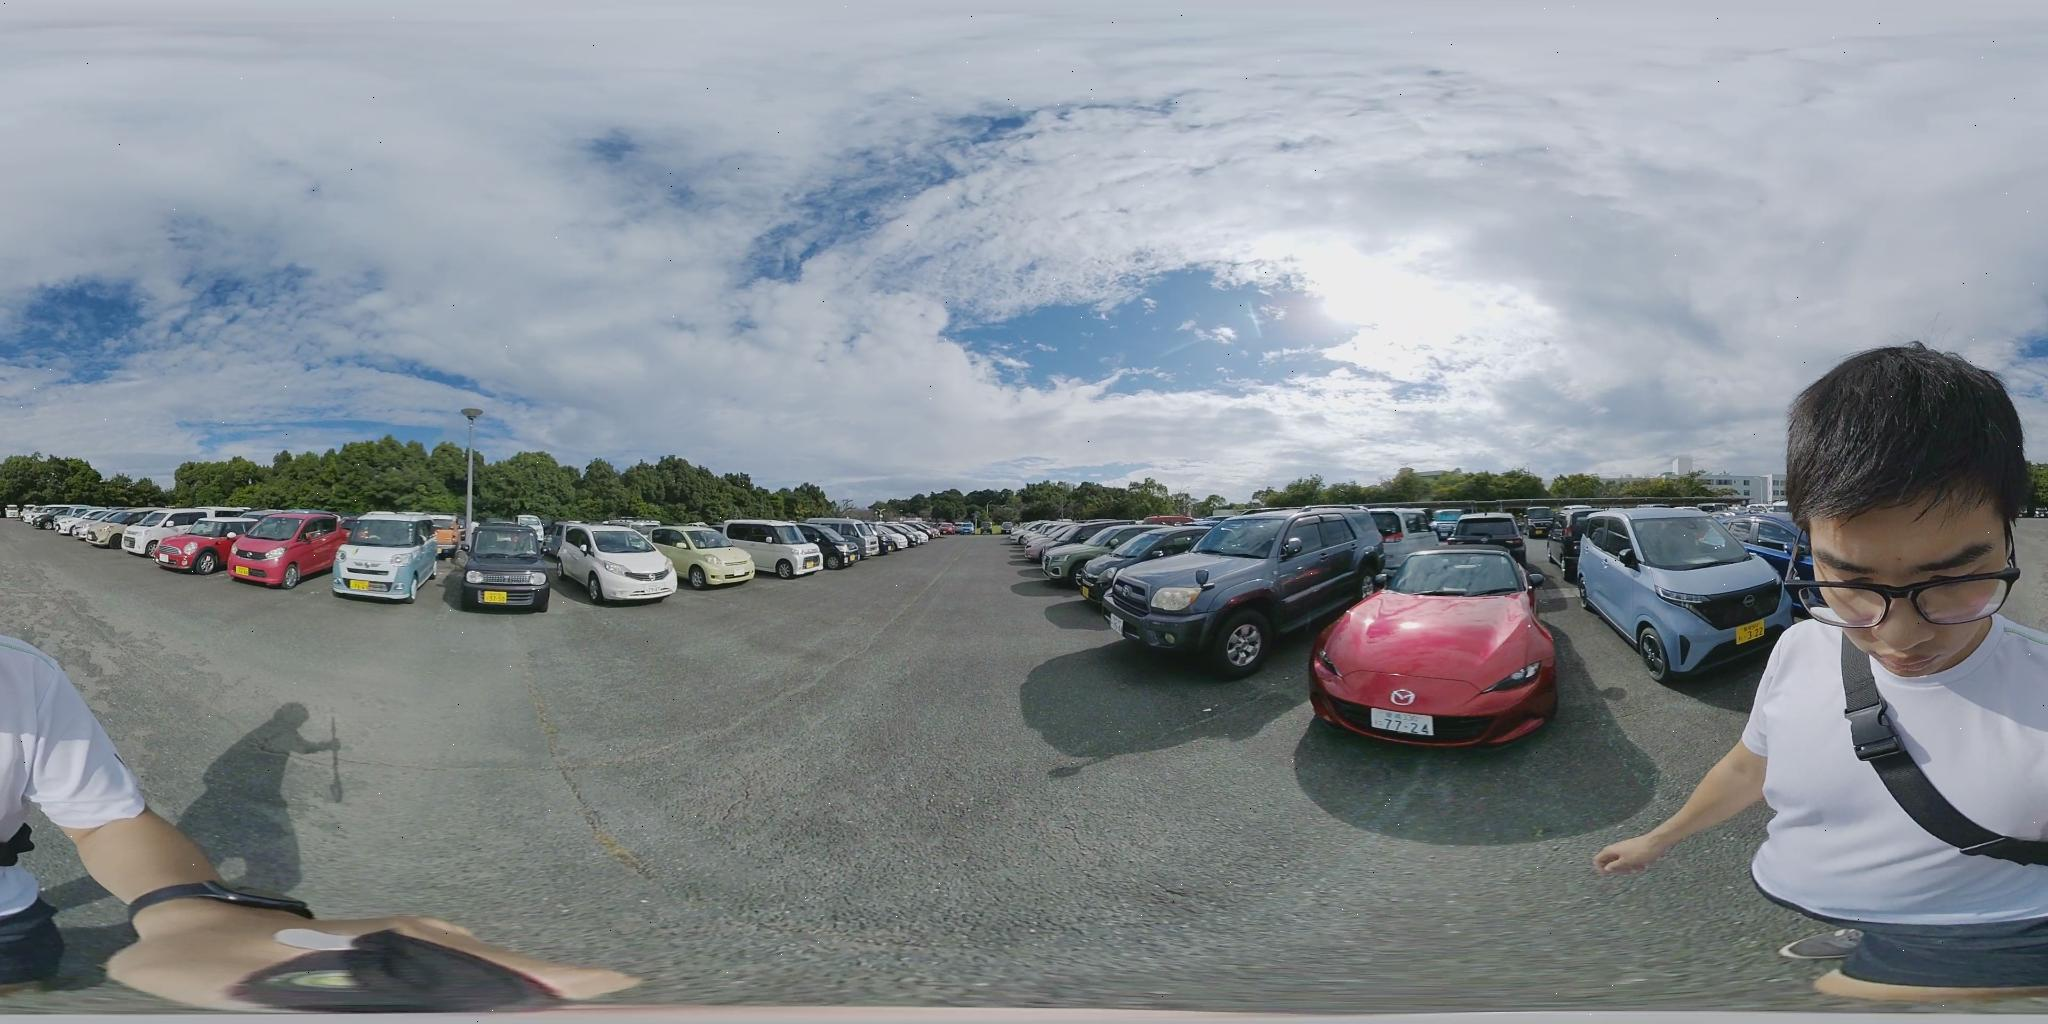car: (1091, 507, 1416, 679), (1307, 543, 1562, 748), (1563, 504, 1806, 683), (1068, 522, 1212, 598), (209, 513, 350, 586), (550, 526, 678, 606), (334, 515, 434, 597), (1024, 524, 1169, 580), (469, 522, 555, 605), (649, 526, 761, 586), (716, 521, 832, 575), (119, 508, 252, 554), (806, 521, 869, 567), (1458, 516, 1529, 549), (878, 522, 922, 552), (934, 525, 974, 538)
